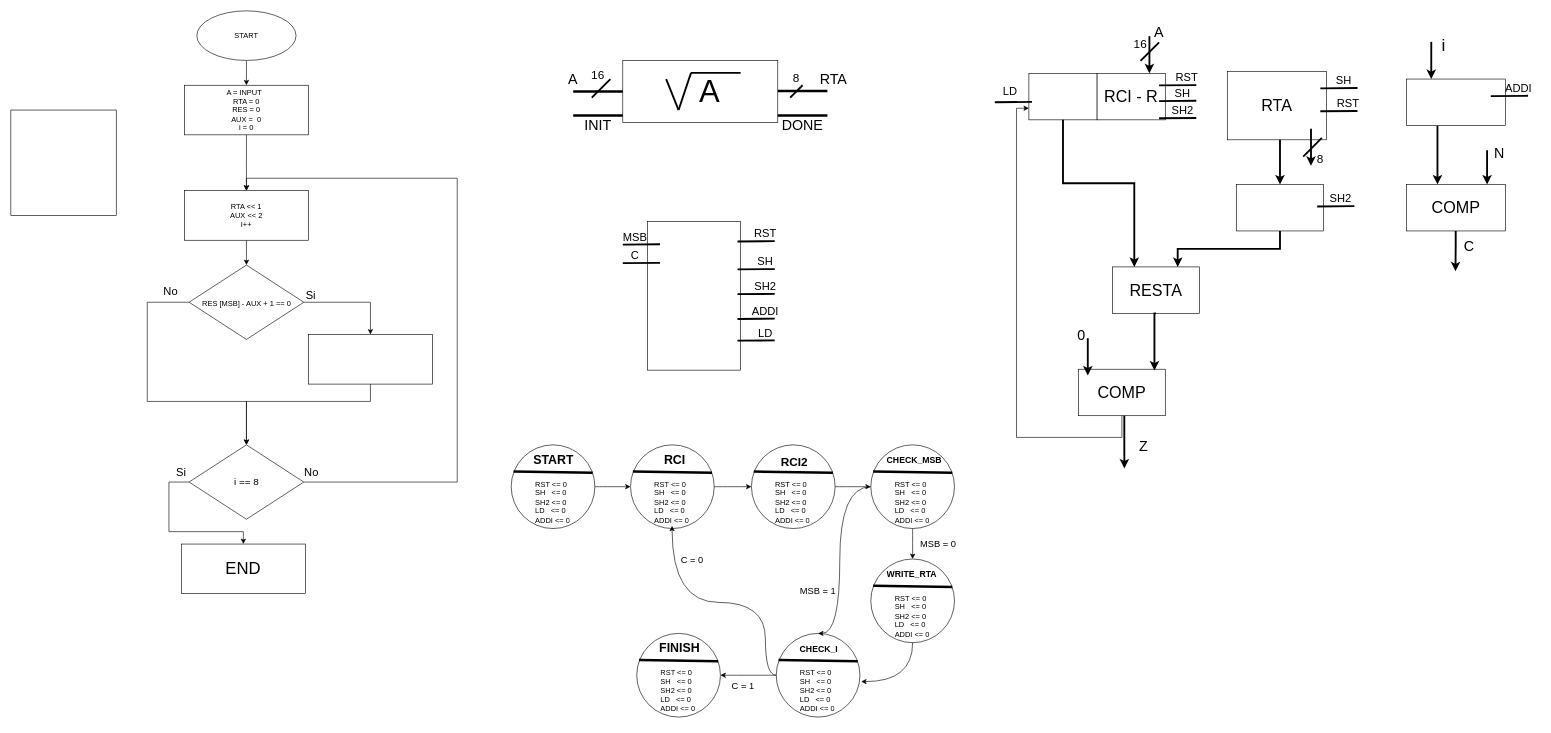
This 1551x733 diagram has some shape labels left out. Here are the shapes that lost their labels. From the top down, the centre of each, then its label:
pixel 1062 96: RES
pixel 1456 102: ACC
pixel 63 162: SHIFT-L ACC """ i COMP """" i = 8 COMP """"" RES RESTA
pixel 1279 207: AUX
pixel 694 295: CONTROL
pixel 370 359: RES = RES [MSB] - AUX + 1 RTA [0] = 1
